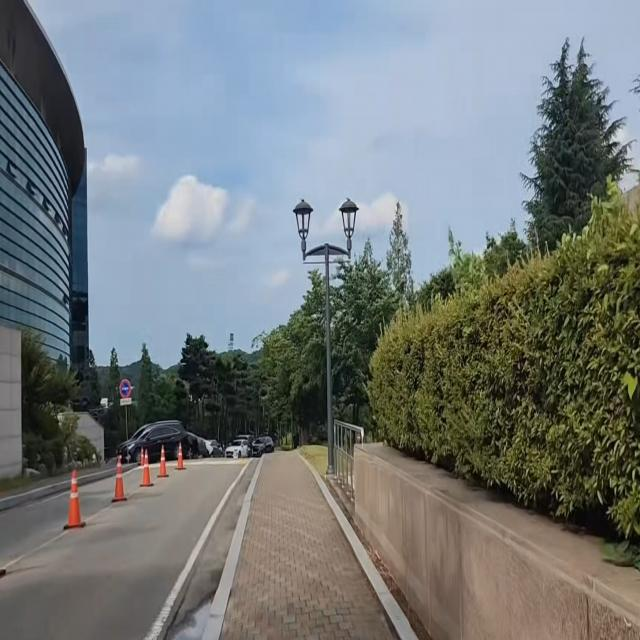obstacle: (56, 462, 94, 533), (107, 444, 128, 511)
road: (0, 470, 255, 640)
sidewalk: (212, 450, 416, 640)
